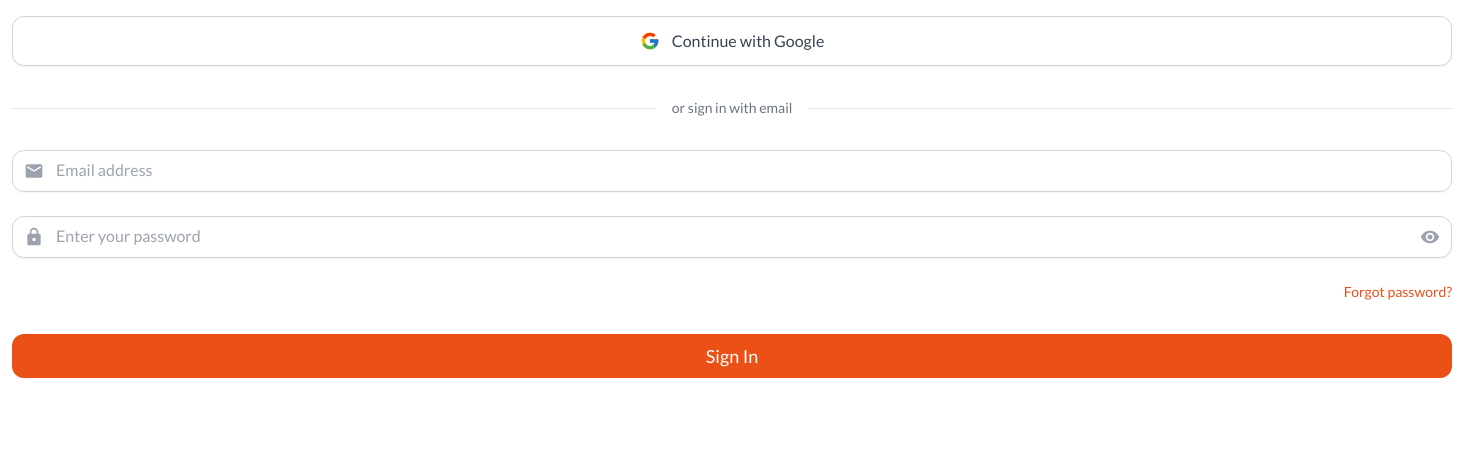
LoginForm › shows password error message if empty
Click the button "Sign In" at (732, 356), box [12,334,1452,378]
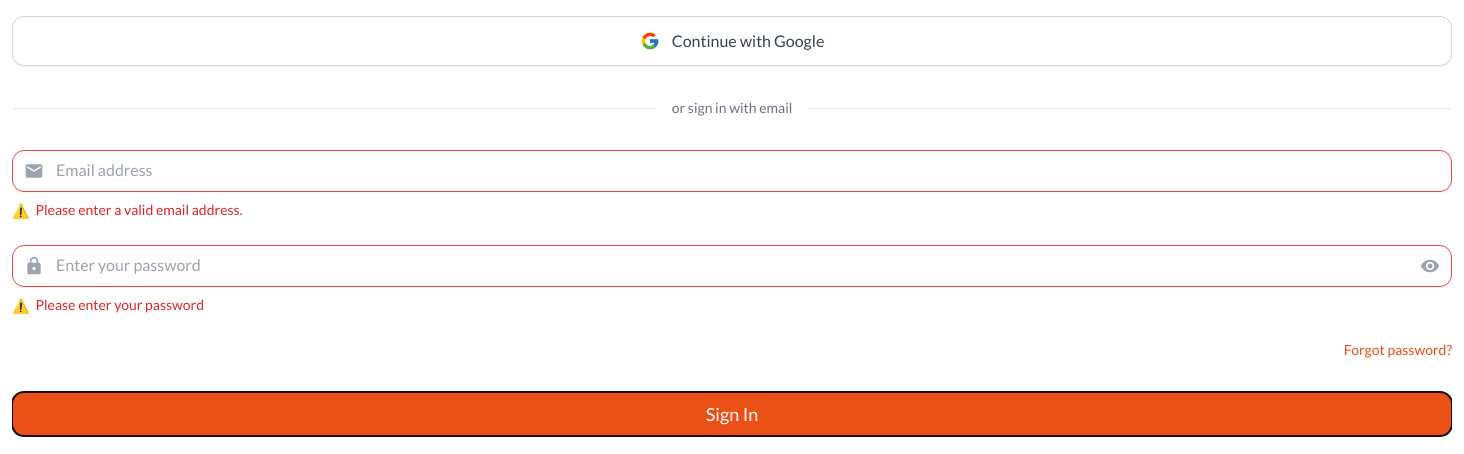
Now the text "Please enter your password" is shown, box [36,296,204,313]
